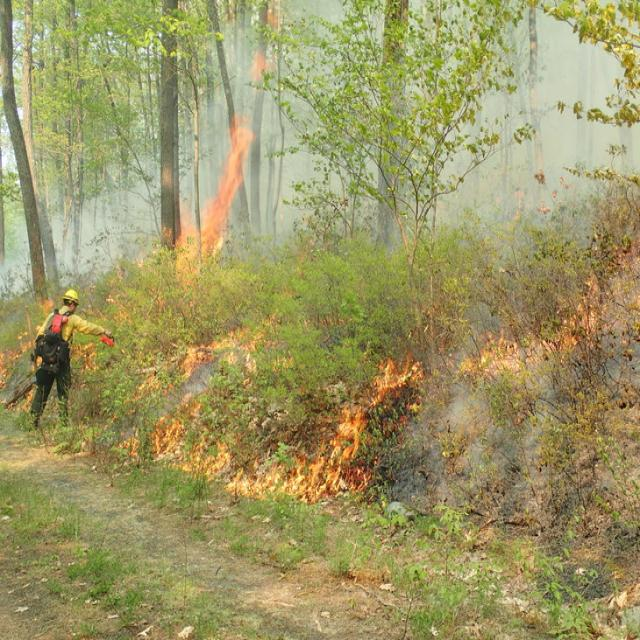Fire: (221, 410, 400, 506), (457, 298, 597, 419), (157, 117, 255, 262), (141, 395, 256, 487), (182, 327, 287, 376), (368, 355, 428, 418)
